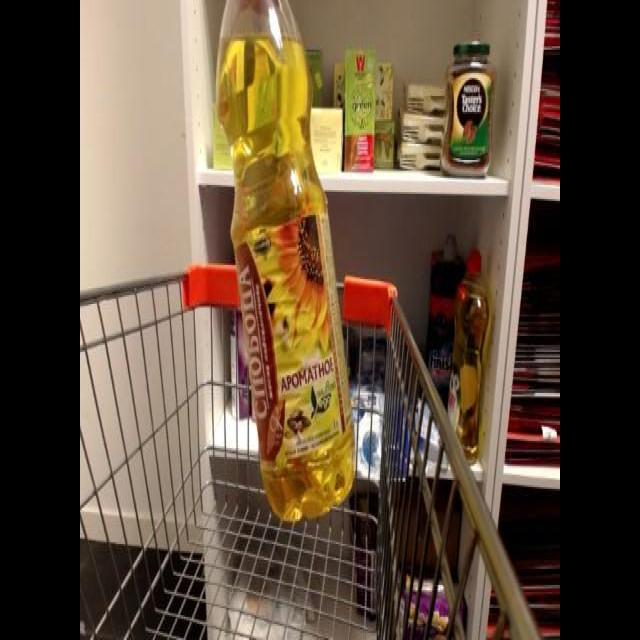Oil: (210, 0, 360, 530)
